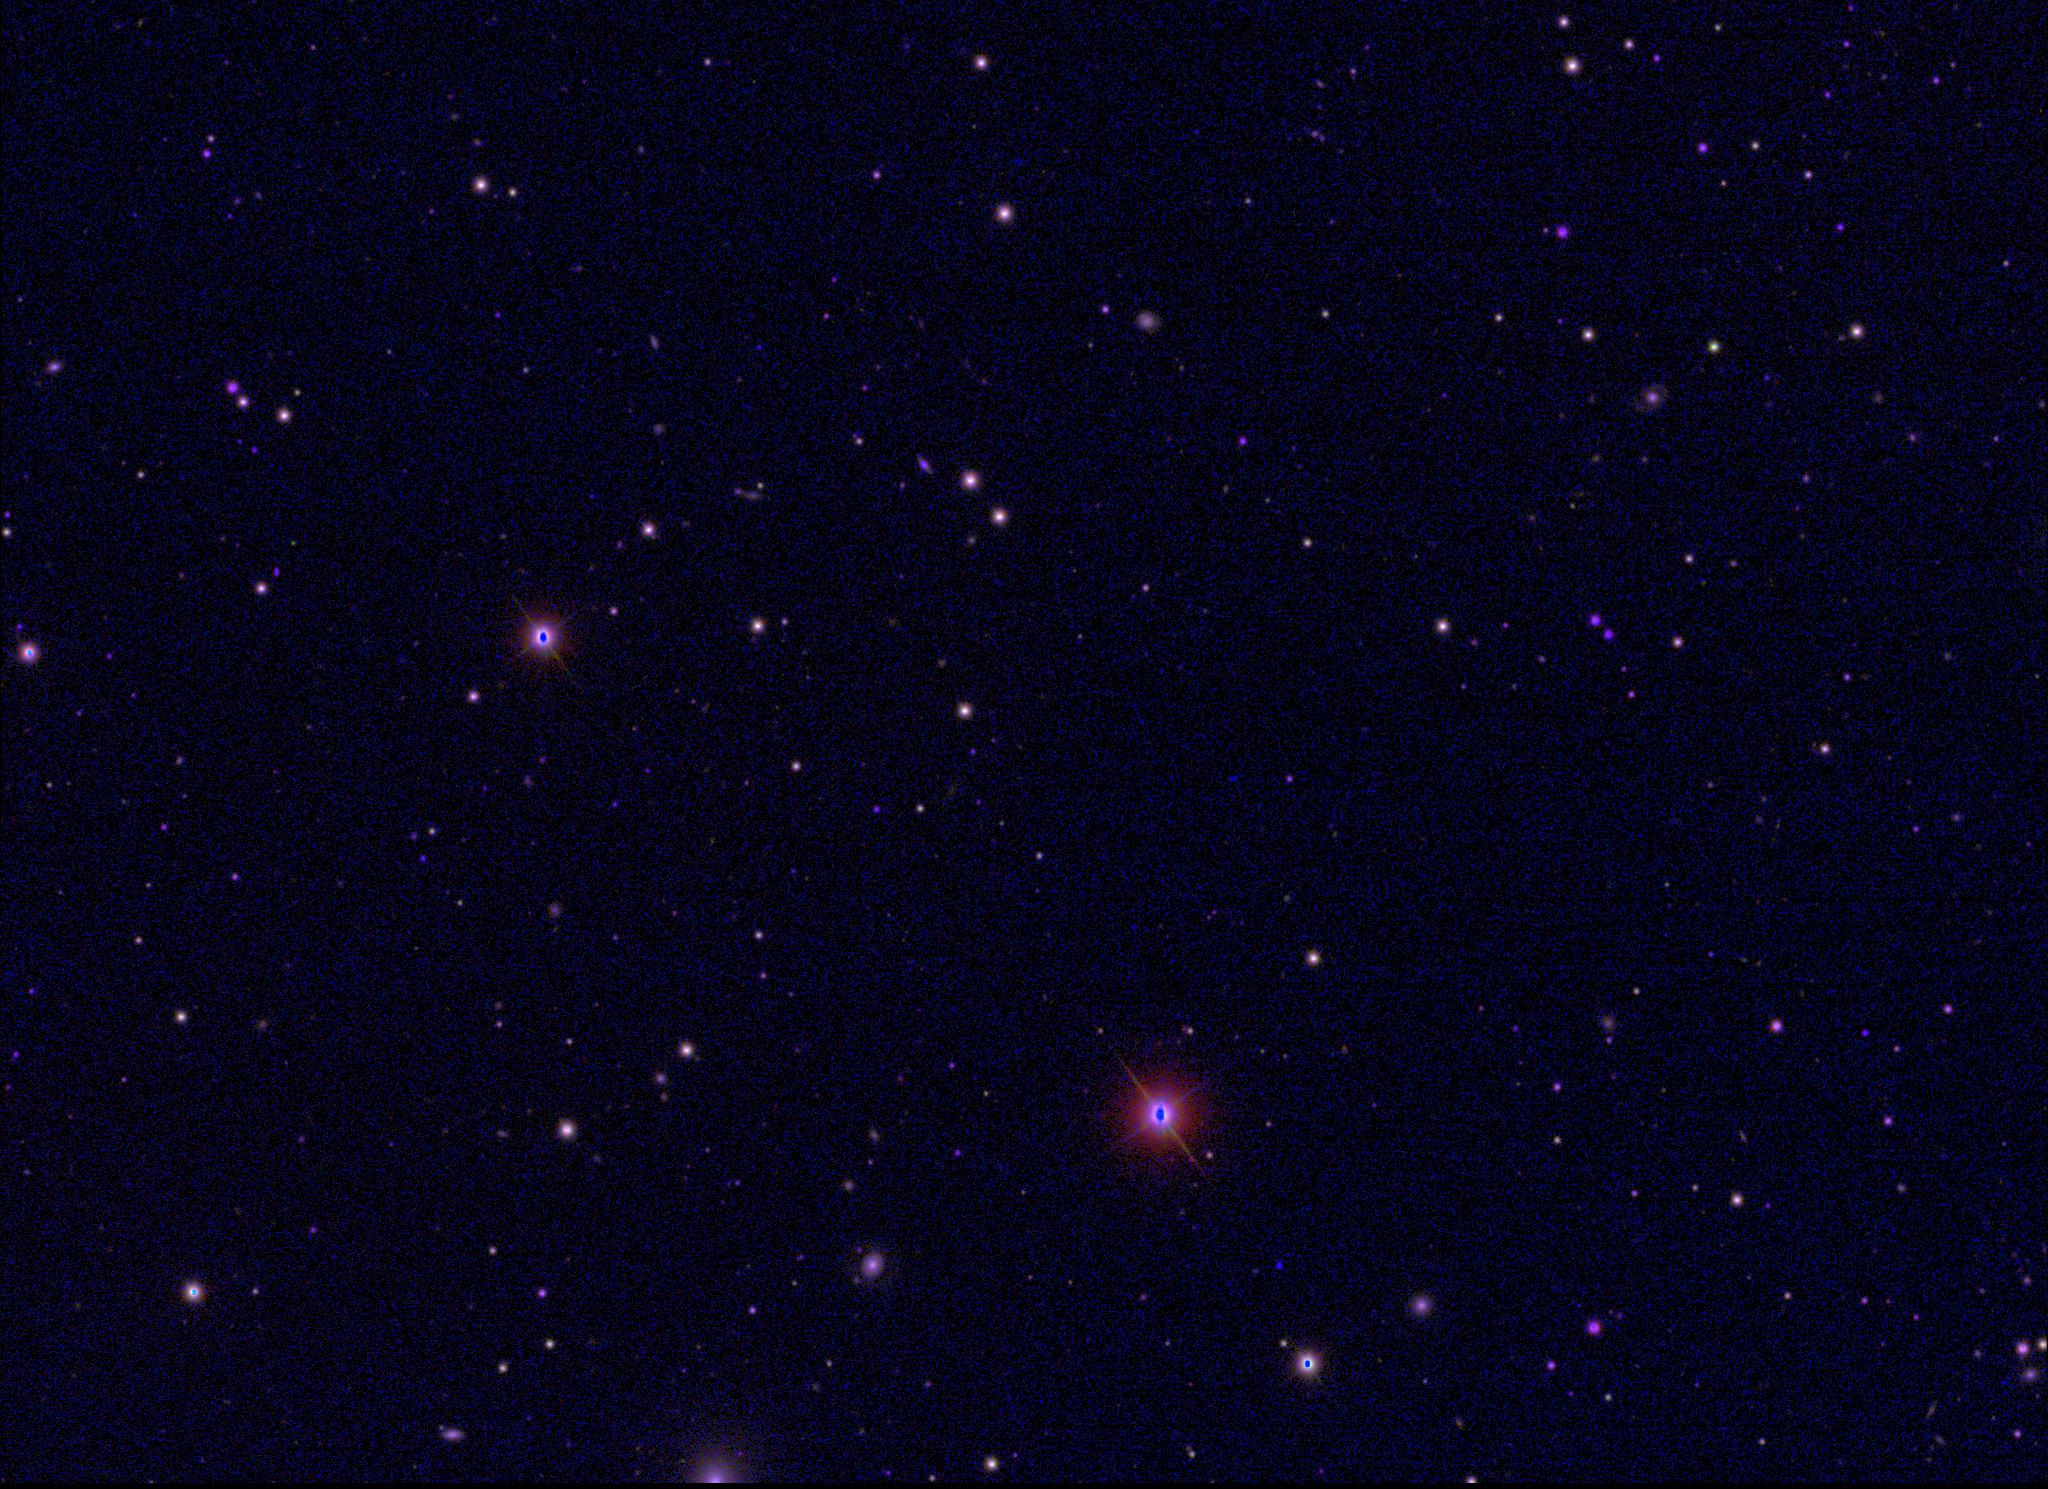L: (1272, 1258, 1286, 1273)
